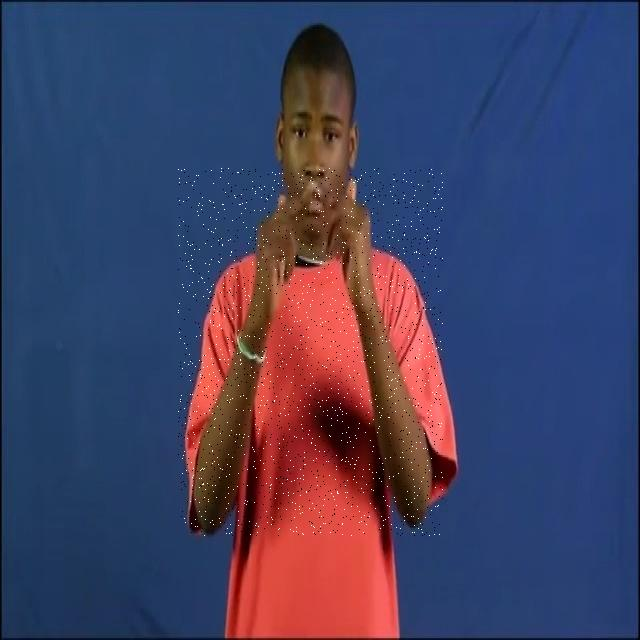bacon: (178, 168, 443, 536)
